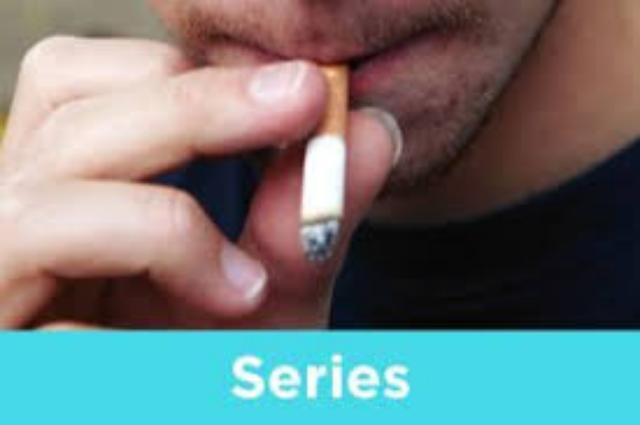Smoking: (298, 64, 350, 264)
